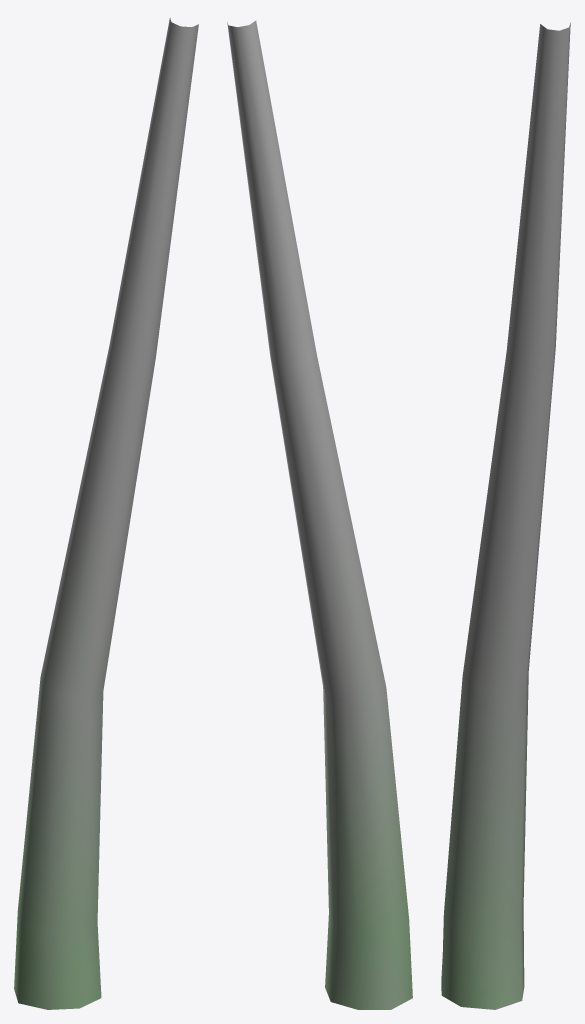
The model's file is jungleC_bark_lod2.glb.
3 views of the same model, side by side, from view 1: azimuth 30°, elevation 25°; view 2: azimuth 210°, elevation 25°; view 3: azimuth 330°, elevation 25° (orthographic). The views are drawn at different scales.
Parts seen in each view (by area): view 1: jungleC; view 2: jungleC; view 3: jungleC.
Boxes of the visible parts, x1,y1,x2,y2 form: jungleC: (14,18,198,1009); jungleC: (227,20,412,1009); jungleC: (441,22,570,1009).
Bounding box in the file's own units: 3.49 × 21.55 × 2.36.
